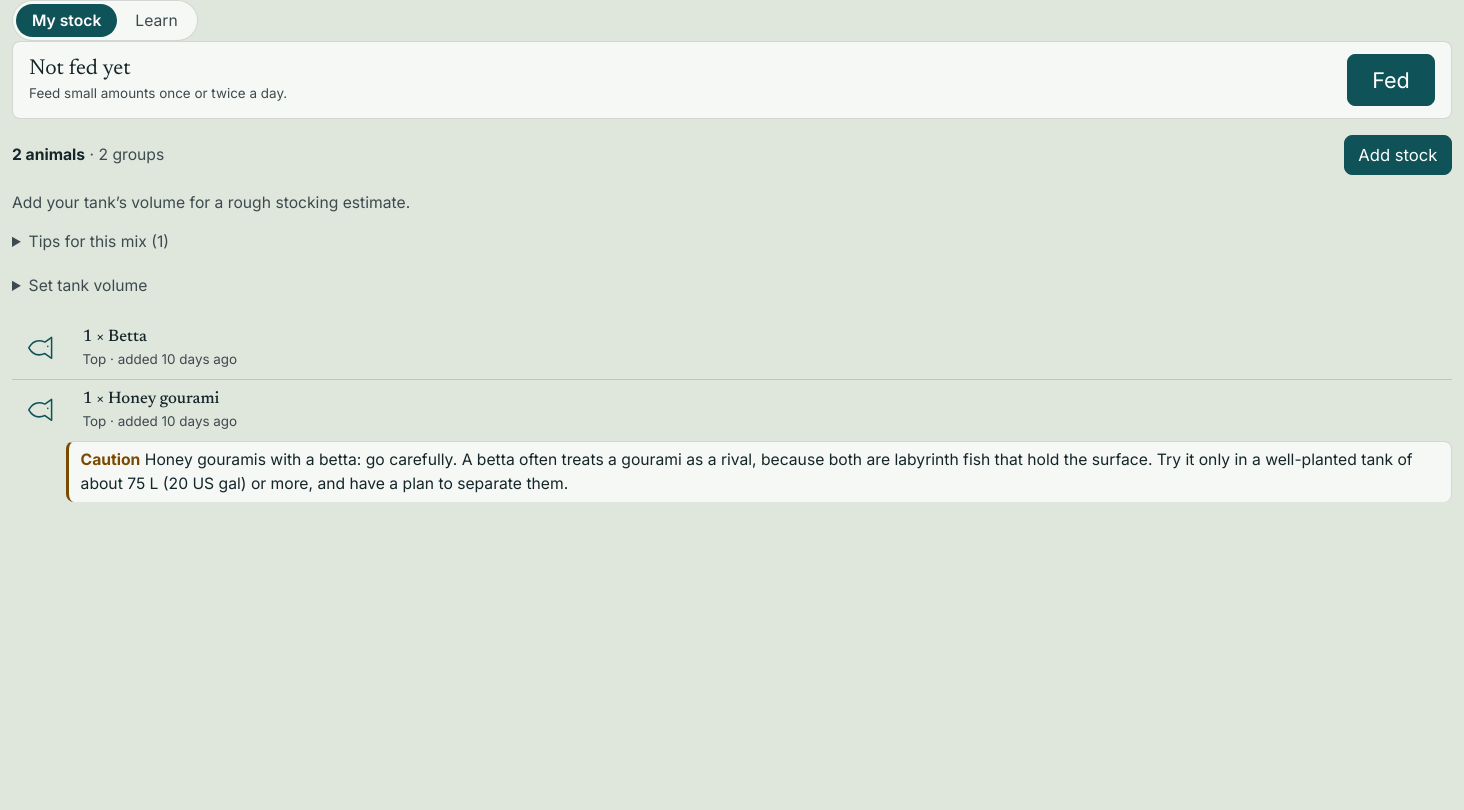
Scenario: group detail › shows guidance for the group and the care card
Check: the navigation bar named "Stock sections" is shown, box [12,0,198,41]
What coordinates should you click on to do the following:
click the link "1 × Honey gourami Top · added 10 days ago"
I would click on:
 (131, 410)
Its box is [24,389,237,431].
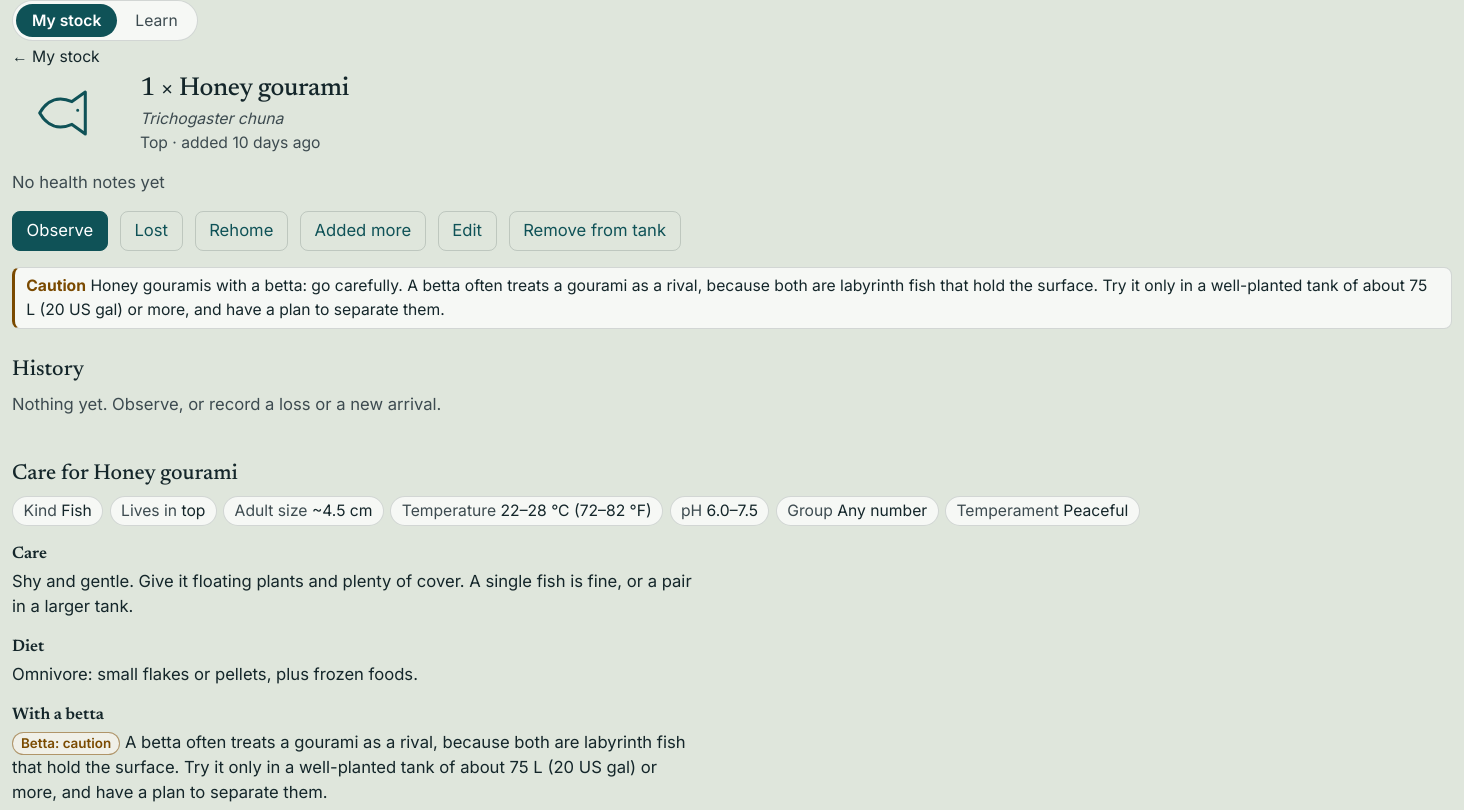
Check: the list item that starts with "Caution" is shown, box [26,276,1427,319]
Check: the heading "Care for Honey gourami" is shown, box [12,463,238,485]
Check: the text "22–28 °C (72–82 °F)" is shown, box [500,501,652,520]
